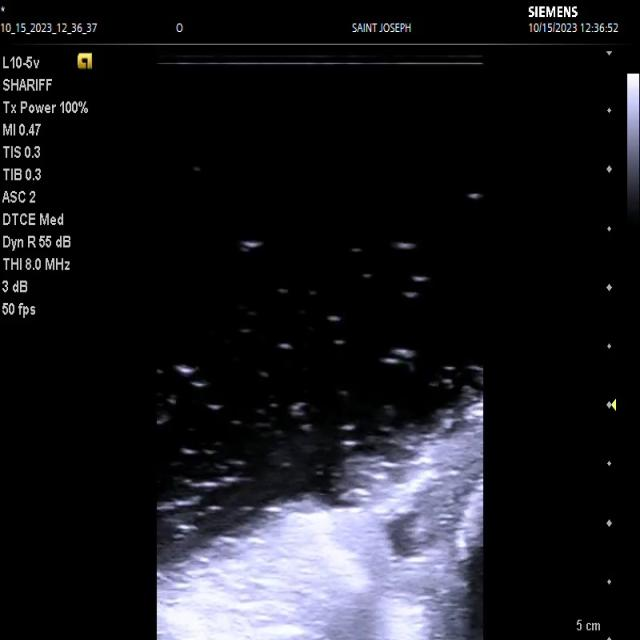tissue: (158, 397, 485, 640)
